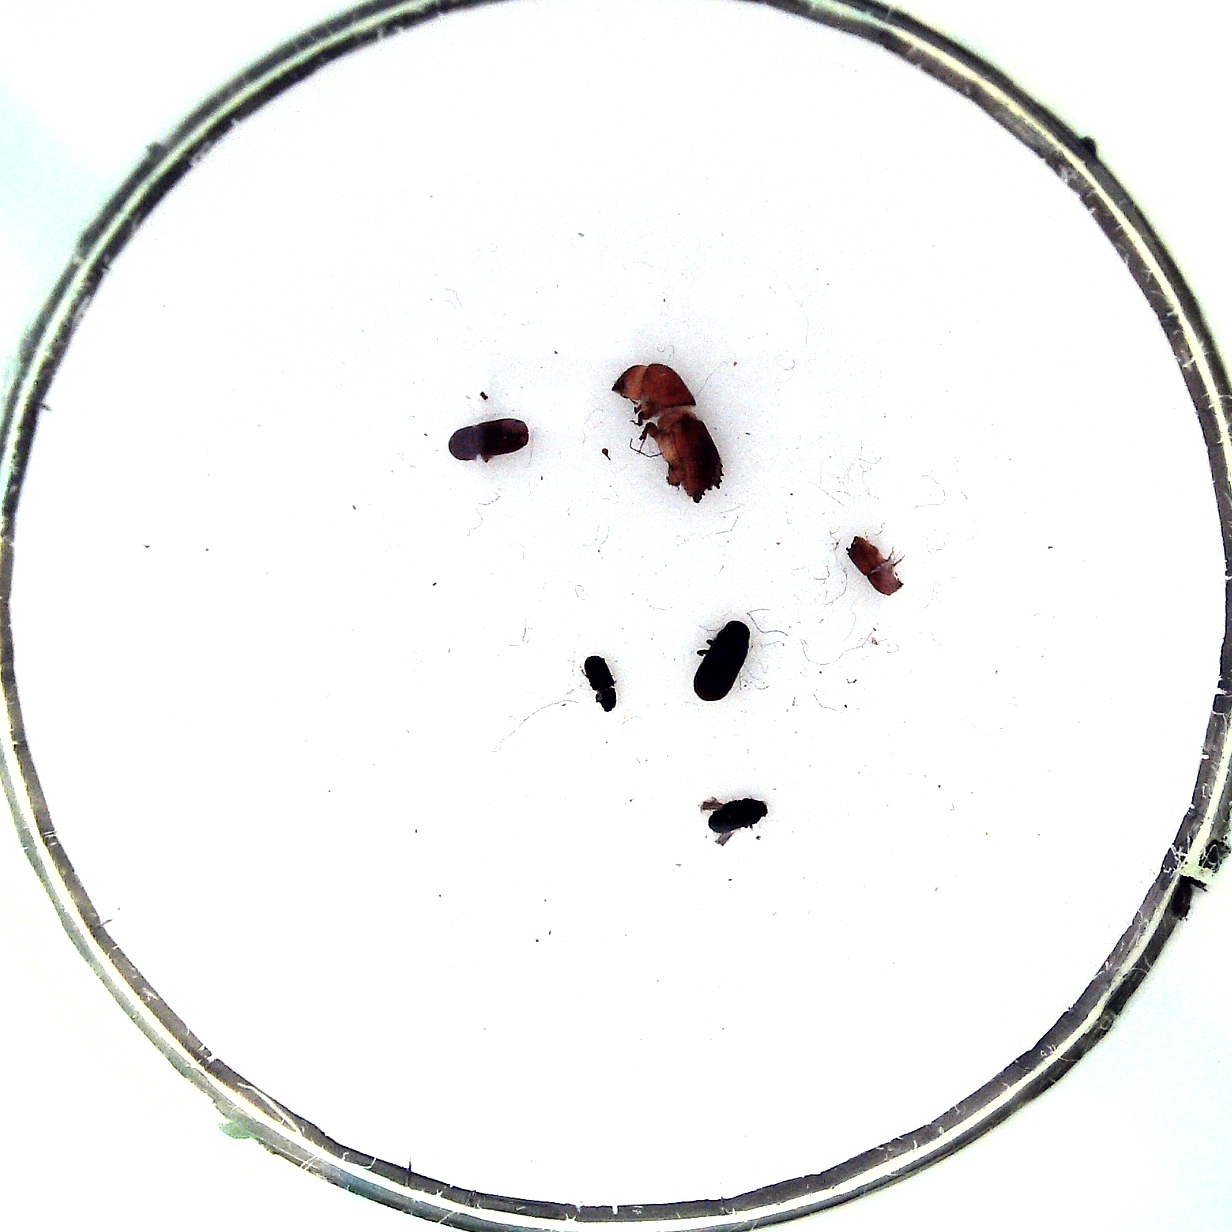Boerner: (611, 363, 725, 504)
acuminatus: (707, 797, 768, 834), (586, 655, 618, 712)
armandi: (693, 621, 750, 701)
coleoptera: (848, 534, 904, 596)
linnaeus: (448, 417, 529, 461)
